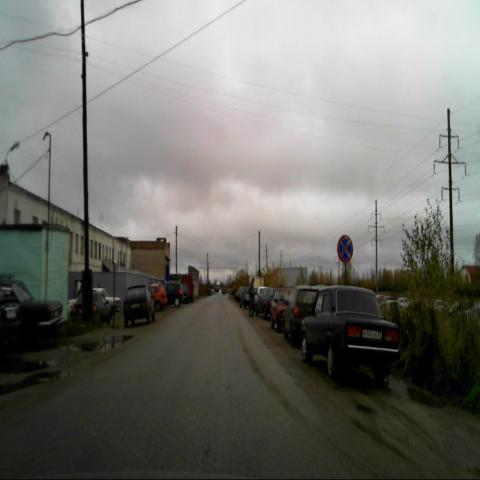3_27: (337, 235, 353, 264)
